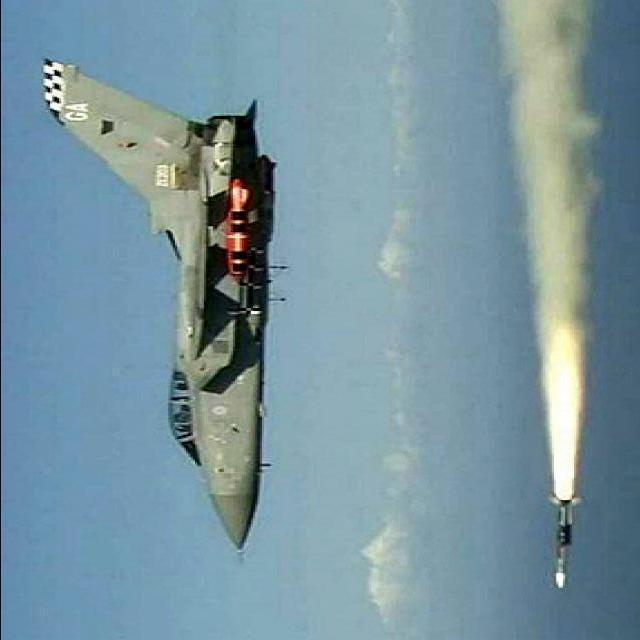missile: (226, 173, 266, 283), (549, 486, 587, 591), (487, 443, 490, 454)
